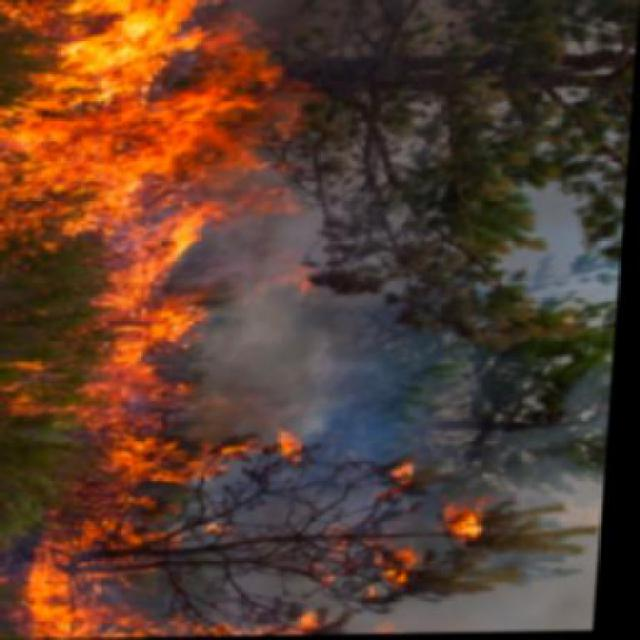fire: (1, 1, 271, 640)
